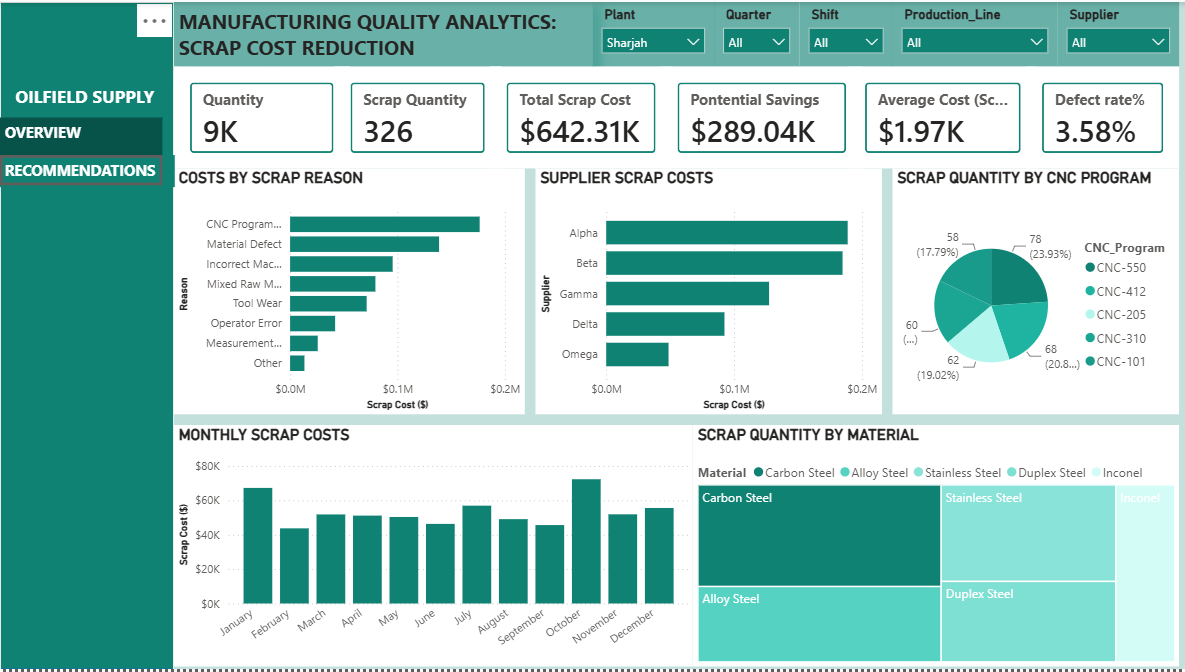

Layout of this report page (visuals, bound fields, positions):
{"tool":"powerbi","page":{"name":"Manufacturing Quality Analytics: Scrap Cost Reduction","canvas":[1280,720],"ordinal":0},"visuals":[{"type":"shape","box":[0,0,187.8,720.6],"z":0},{"type":"textbox","box":[187.8,0,451.8,69.6],"z":1000},{"type":"cardVisual","fields":{"Data":["Fact_Manufacturing_Scrap.Total Scrap Cost"]},"box":[529.5,69.6,195.9,110.1],"z":2000},{"type":"cardVisual","fields":{"Data":["Fact_Manufacturing_Scrap.Total Quantity Produced"]},"box":[187.8,69.6,189.4,110.1],"z":3000},{"type":"cardVisual","fields":{"Data":["Fact_Manufacturing_Scrap.Total Scrap Quantity"]},"box":[361.1,69.6,179.7,110.1],"z":4000},{"type":"cardVisual","fields":{"Data":["Fact_Manufacturing_Scrap.Defect rate%"]},"box":[1107.6,69.6,165.2,110.1],"z":5000},{"type":"cardVisual","fields":{"Data":["Fact_Manufacturing_Scrap.Pontential Savings"]},"box":[714.1,69.6,217,110.1],"z":6000},{"type":"clusteredBarChart","title":"COSTS BY SCRAP REASON","fields":{"Category":["Fact_Manufacturing_Scrap.Scrap_Reason"],"Y":["Fact_Manufacturing_Scrap.Total Scrap Cost"]},"box":[187.8,179.7,378.9,265.6],"z":7000},{"type":"clusteredBarChart","title":"SUPPLIER SCRAP COSTS","fields":{"Category":["Fact_Manufacturing_Scrap.Supplier_Name"],"Y":["Fact_Manufacturing_Scrap.Total Scrap Cost"]},"box":[578.1,179.7,374,265.6],"z":8000},{"type":"clusteredColumnChart","title":"MONTHLY SCRAP COSTS","fields":{"Y":["Fact_Manufacturing_Scrap.Total Scrap Cost"],"Category":["Dim_Date.Month"]},"box":[187.8,456.6,560.3,260.7],"z":9000},{"type":"treemap","title":"SCRAP QUANTITY BY MATERIAL","fields":{"Group":["Fact_Manufacturing_Scrap.Material"],"Values":["Fact_Manufacturing_Scrap.Total Scrap Cost"]},"box":[748.1,456.6,524.6,260.7],"z":10000},{"type":"pieChart","title":"SCRAP QUANTITY BY CNC PROGRAM","fields":{"Category":["Fact_Manufacturing_Scrap.CNC_Program"],"Y":["Fact_Manufacturing_Scrap.Total Scrap Quantity"]},"box":[963.4,179.7,309.3,265.6],"z":11000},{"type":"cardVisual","fields":{"Data":["Fact_Manufacturing_Scrap.Average Material Scrap Cost"]},"box":[916.5,69.6,202.4,110.1],"z":12000},{"type":"slicer","fields":{"Values":["Fact_Manufacturing_Scrap.Plant"]},"box":[639.6,0,131.2,69.6],"z":13000},{"type":"slicer","fields":{"Values":["Dim_Date.Quarter"]},"box":[770.8,0,92.3,69.6],"z":14000},{"type":"slicer","fields":{"Values":["Fact_Manufacturing_Scrap.Shift"]},"box":[863,0,100.4,69.6],"z":15000},{"type":"slicer","fields":{"Values":["Fact_Manufacturing_Scrap.Production_Line"]},"box":[963.4,0,178.1,69.6],"z":16000},{"type":"slicer","fields":{"Values":["Fact_Manufacturing_Scrap.Supplier_Name"]},"box":[1141.6,0,131.2,69.6],"z":17000},{"type":"textbox","box":[11.3,84.2,163.5,40.5],"z":18000},{"type":"textbox","box":[0,125.2,175.2,40.4],"z":20000},{"type":"textbox","box":[0,165.6,188.7,34.7],"z":21000},{"type":"actionButton","box":[0,165.6,175.2,32.7],"z":21001}]}

Visuals, with their boxes on the page's 1280x720 design canvas (x1, y1, x2, y2). These are canvas units, not pixel positions in the 1185x672 screenshot, which may show the page scaled, cropped or inside an application window:
shape: detection(0, 0, 188, 721)
textbox: detection(188, 0, 640, 70)
cardVisual - Fact_Manufacturing_Scrap.Total Scrap Cost: detection(530, 70, 725, 180)
cardVisual - Fact_Manufacturing_Scrap.Total Quantity Produced: detection(188, 70, 377, 180)
cardVisual - Fact_Manufacturing_Scrap.Total Scrap Quantity: detection(361, 70, 541, 180)
cardVisual - Fact_Manufacturing_Scrap.Defect rate%: detection(1108, 70, 1273, 180)
cardVisual - Fact_Manufacturing_Scrap.Pontential Savings: detection(714, 70, 931, 180)
"COSTS BY SCRAP REASON" clusteredBarChart: detection(188, 180, 567, 445)
"SUPPLIER SCRAP COSTS" clusteredBarChart: detection(578, 180, 952, 445)
"MONTHLY SCRAP COSTS" clusteredColumnChart: detection(188, 457, 748, 717)
"SCRAP QUANTITY BY MATERIAL" treemap: detection(748, 457, 1273, 717)
"SCRAP QUANTITY BY CNC PROGRAM" pieChart: detection(963, 180, 1273, 445)
cardVisual - Fact_Manufacturing_Scrap.Average Material Scrap Cost: detection(916, 70, 1119, 180)
slicer - Fact_Manufacturing_Scrap.Plant: detection(640, 0, 771, 70)
slicer - Dim_Date.Quarter: detection(771, 0, 863, 70)
slicer - Fact_Manufacturing_Scrap.Shift: detection(863, 0, 963, 70)
slicer - Fact_Manufacturing_Scrap.Production_Line: detection(963, 0, 1142, 70)
slicer - Fact_Manufacturing_Scrap.Supplier_Name: detection(1142, 0, 1273, 70)
textbox: detection(11, 84, 175, 125)
textbox: detection(0, 125, 175, 166)
textbox: detection(0, 166, 189, 200)
actionButton: detection(0, 166, 175, 198)
